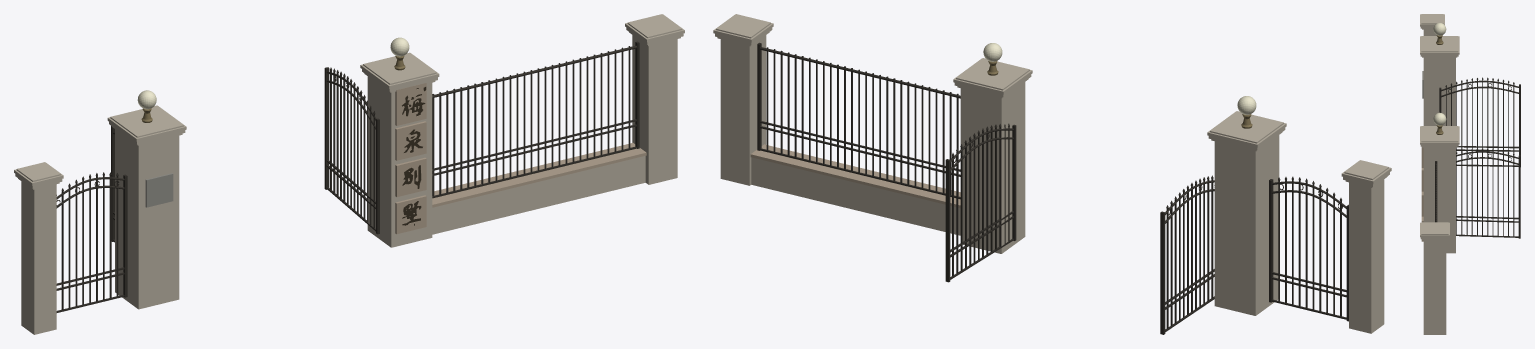
The model's file is full-source.glb.
3 renders of one model, left to right at view 1: azimuth 30°, elevation 25°; view 2: azimuth 150°, elevation 25°; view 3: azimuth 270°, elevation 25°, orthographic. The views are drawn at different scales.
Visible parts, largest first — view 1: 新华路593弄梅泉别墅东北入口刻名门柱与铁门; view 2: 新华路593弄梅泉别墅东北入口刻名门柱与铁门; view 3: 新华路593弄梅泉别墅东北入口刻名门柱与铁门.
Part boxes in pixels (<box>): 新华路593弄梅泉别墅东北入口刻名门柱与铁门: <box>14,14,684,334</box>; 新华路593弄梅泉别墅东北入口刻名门柱与铁门: <box>713,14,1391,334</box>; 新华路593弄梅泉别墅东北入口刻名门柱与铁门: <box>1420,14,1520,334</box>.
Size of the model in its own units: 11.99 by 3.59 by 2.36.
